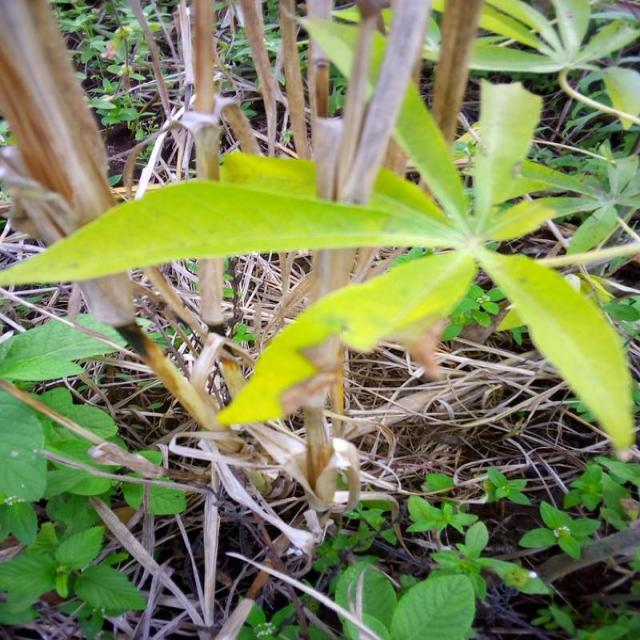cassava leaf: (1, 2, 636, 460), (0, 150, 460, 288), (215, 246, 478, 427), (477, 246, 635, 454)
